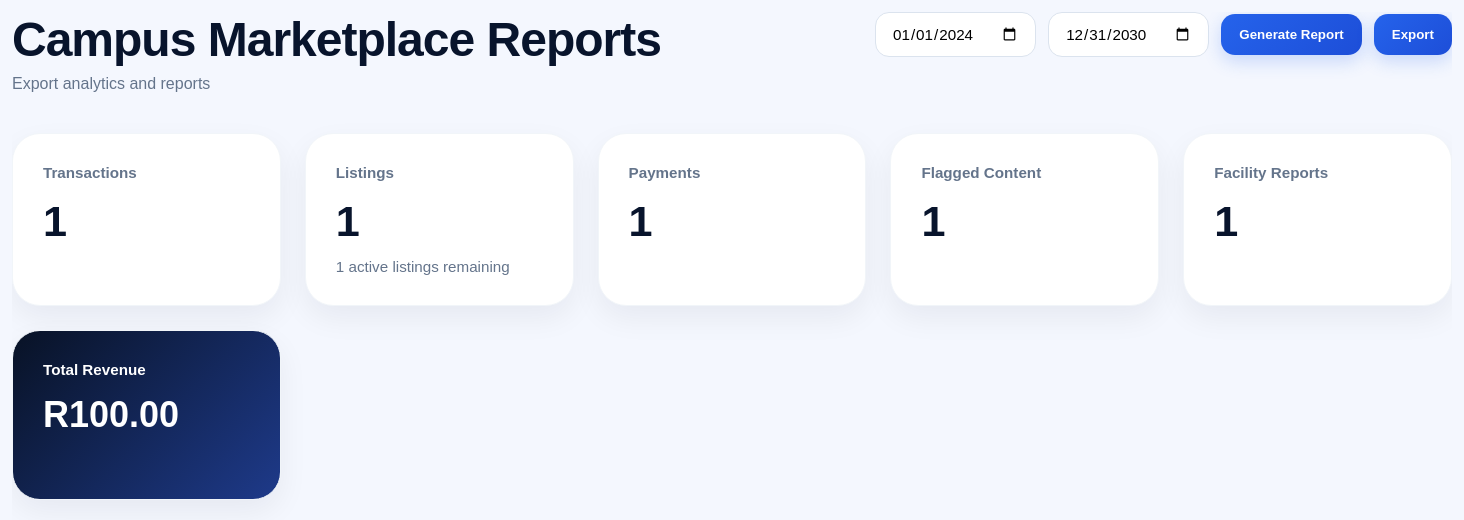
Test: EnhancedReports Component › opens export dropdown
Click the button "Export": (1413, 35) [1374,14,1452,55]
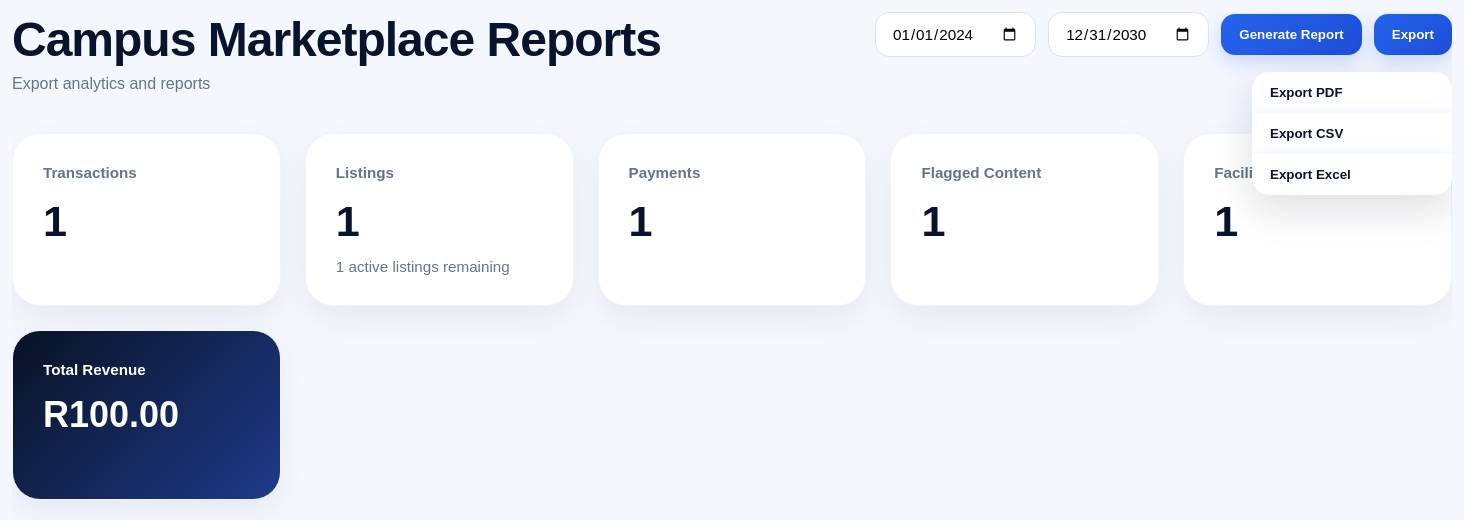
Check: the button "Export PDF" is shown, box [1252,72,1452,113]
Check: the button "Export CSV" is shown, box [1252,113,1452,154]
Check: the button "Export Excel" is shown, box [1252,154,1452,195]
